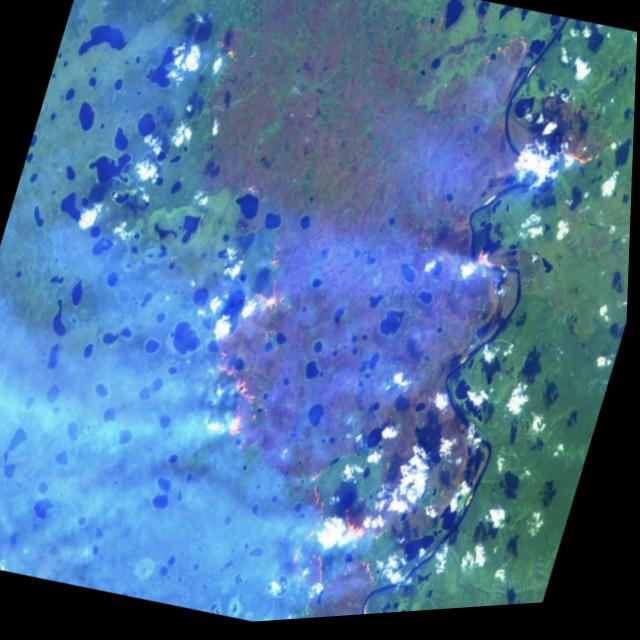fire: (138, 183, 537, 632), (445, 24, 637, 206), (202, 12, 275, 94)
